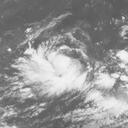cyclone: (23, 43, 87, 94)
